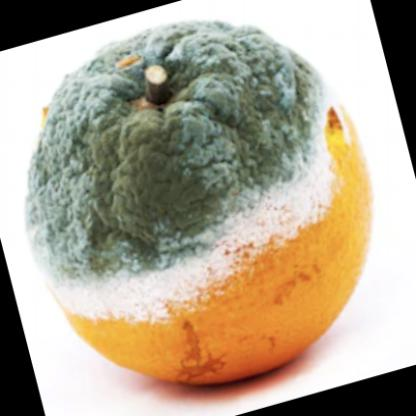rotten_orange: (27, 15, 383, 396)
